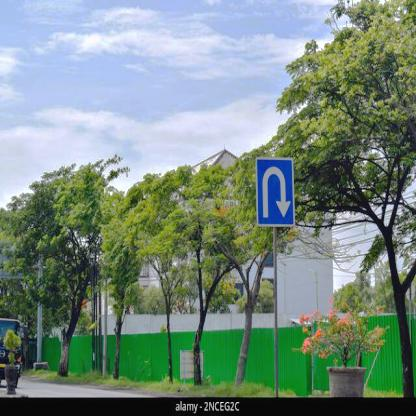U-turn: (255, 156, 296, 232)
